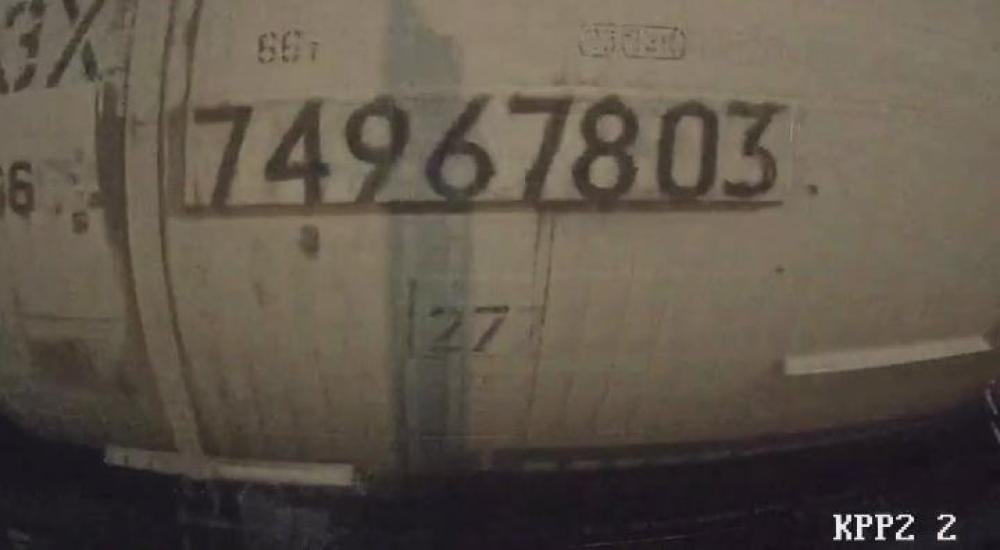Wagon-number: (192, 92, 782, 206)
